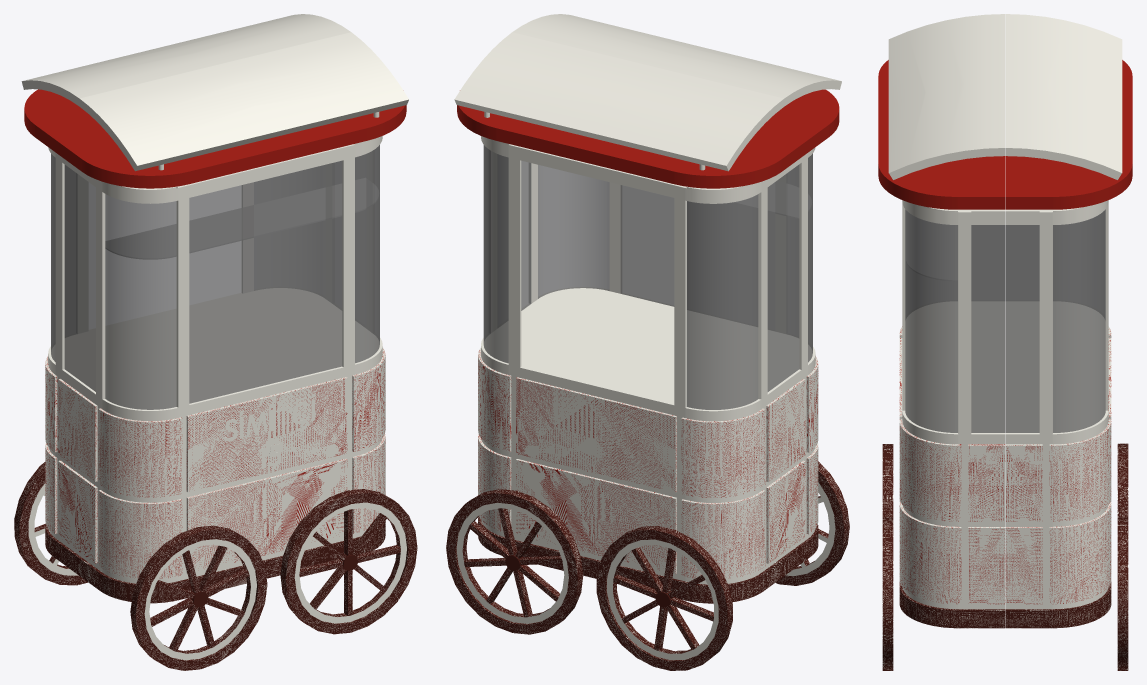
File: simit-collada.dae
The picture shows the model from 3 angles, left to right: view 1: azimuth 30°, elevation 25°; view 2: azimuth 150°, elevation 25°; view 3: azimuth 270°, elevation 25°; orthographic projection.
Visible parts, largest first — view 1: simit-corner_2 (×32), simit-sunroof-2 (×4), simit-front-glass, Component_1 (×8), SIMIT-ROOF (×3), simit-glass-shelve-half (×2); view 2: simit-corner_2 (×32), simit-sunroof-2 (×4), Component_1 (×8), simit-front-glass, SIMIT-ROOF (×3), simit-glass-shelve-half; view 3: simit-corner_2 (×24), simit-sunroof-2 (×4), SIMIT-ROOF (×4), Component_1 (×4), simit-glass-shelve-half.
Part boxes in pixels (x1,y1,x2,y2): simit-corner_2 (×32): (45, 136, 385, 603); simit-sunroof-2 (×4): (21, 14, 408, 171); simit-front-glass: (189, 160, 342, 403); Component_1 (×8): (14, 462, 417, 670); SIMIT-ROOF (×3): (24, 89, 406, 188); simit-glass-shelve-half (×2): (106, 178, 378, 258); simit-corner_2 (×32): (478, 136, 818, 603); simit-sunroof-2 (×4): (454, 14, 841, 171); Component_1 (×8): (446, 461, 849, 670); simit-front-glass: (620, 185, 774, 330); SIMIT-ROOF (×3): (457, 89, 839, 188); simit-glass-shelve-half: (734, 181, 811, 218); simit-corner_2 (×24): (899, 200, 1111, 628); simit-sunroof-2 (×4): (888, 14, 1122, 179); SIMIT-ROOF (×4): (878, 60, 1132, 209); Component_1 (×4): (882, 443, 1128, 670); simit-glass-shelve-half: (906, 215, 957, 280).
Bounding box in the file's own units: 51.14 × 35.55 × 84.28.
